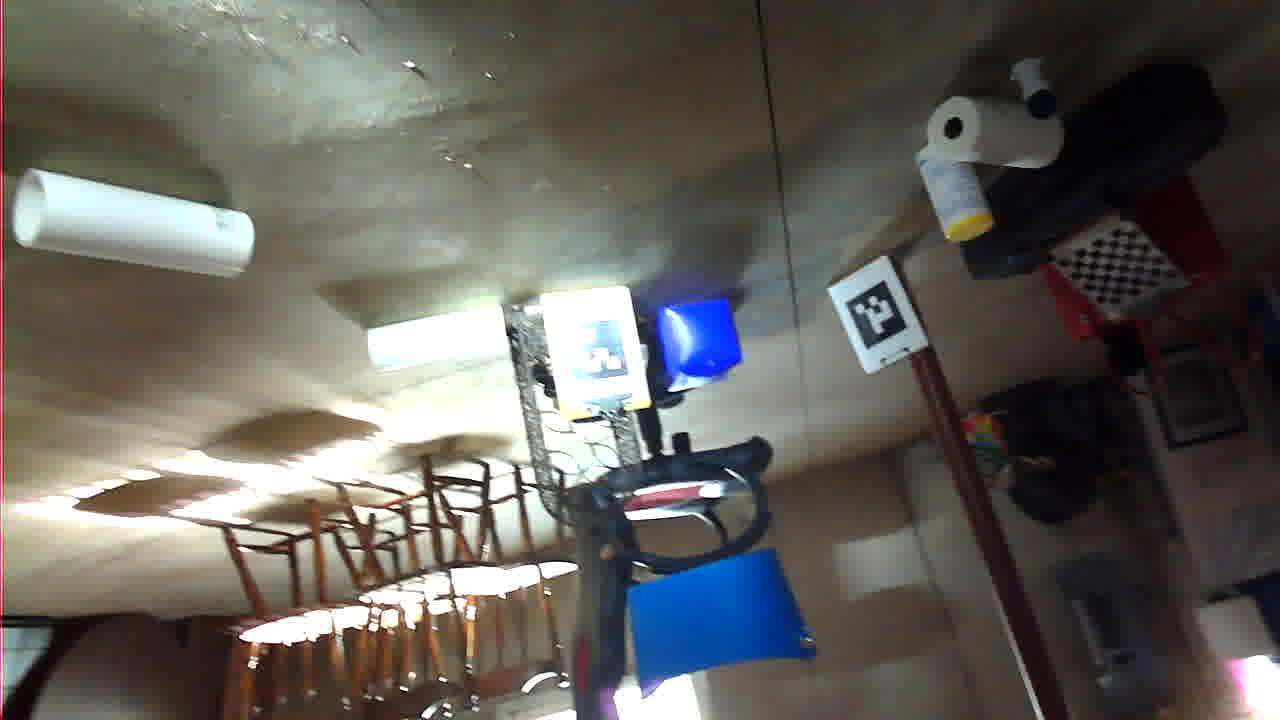coral: (1027, 442, 1269, 554), (775, 352, 912, 420)
